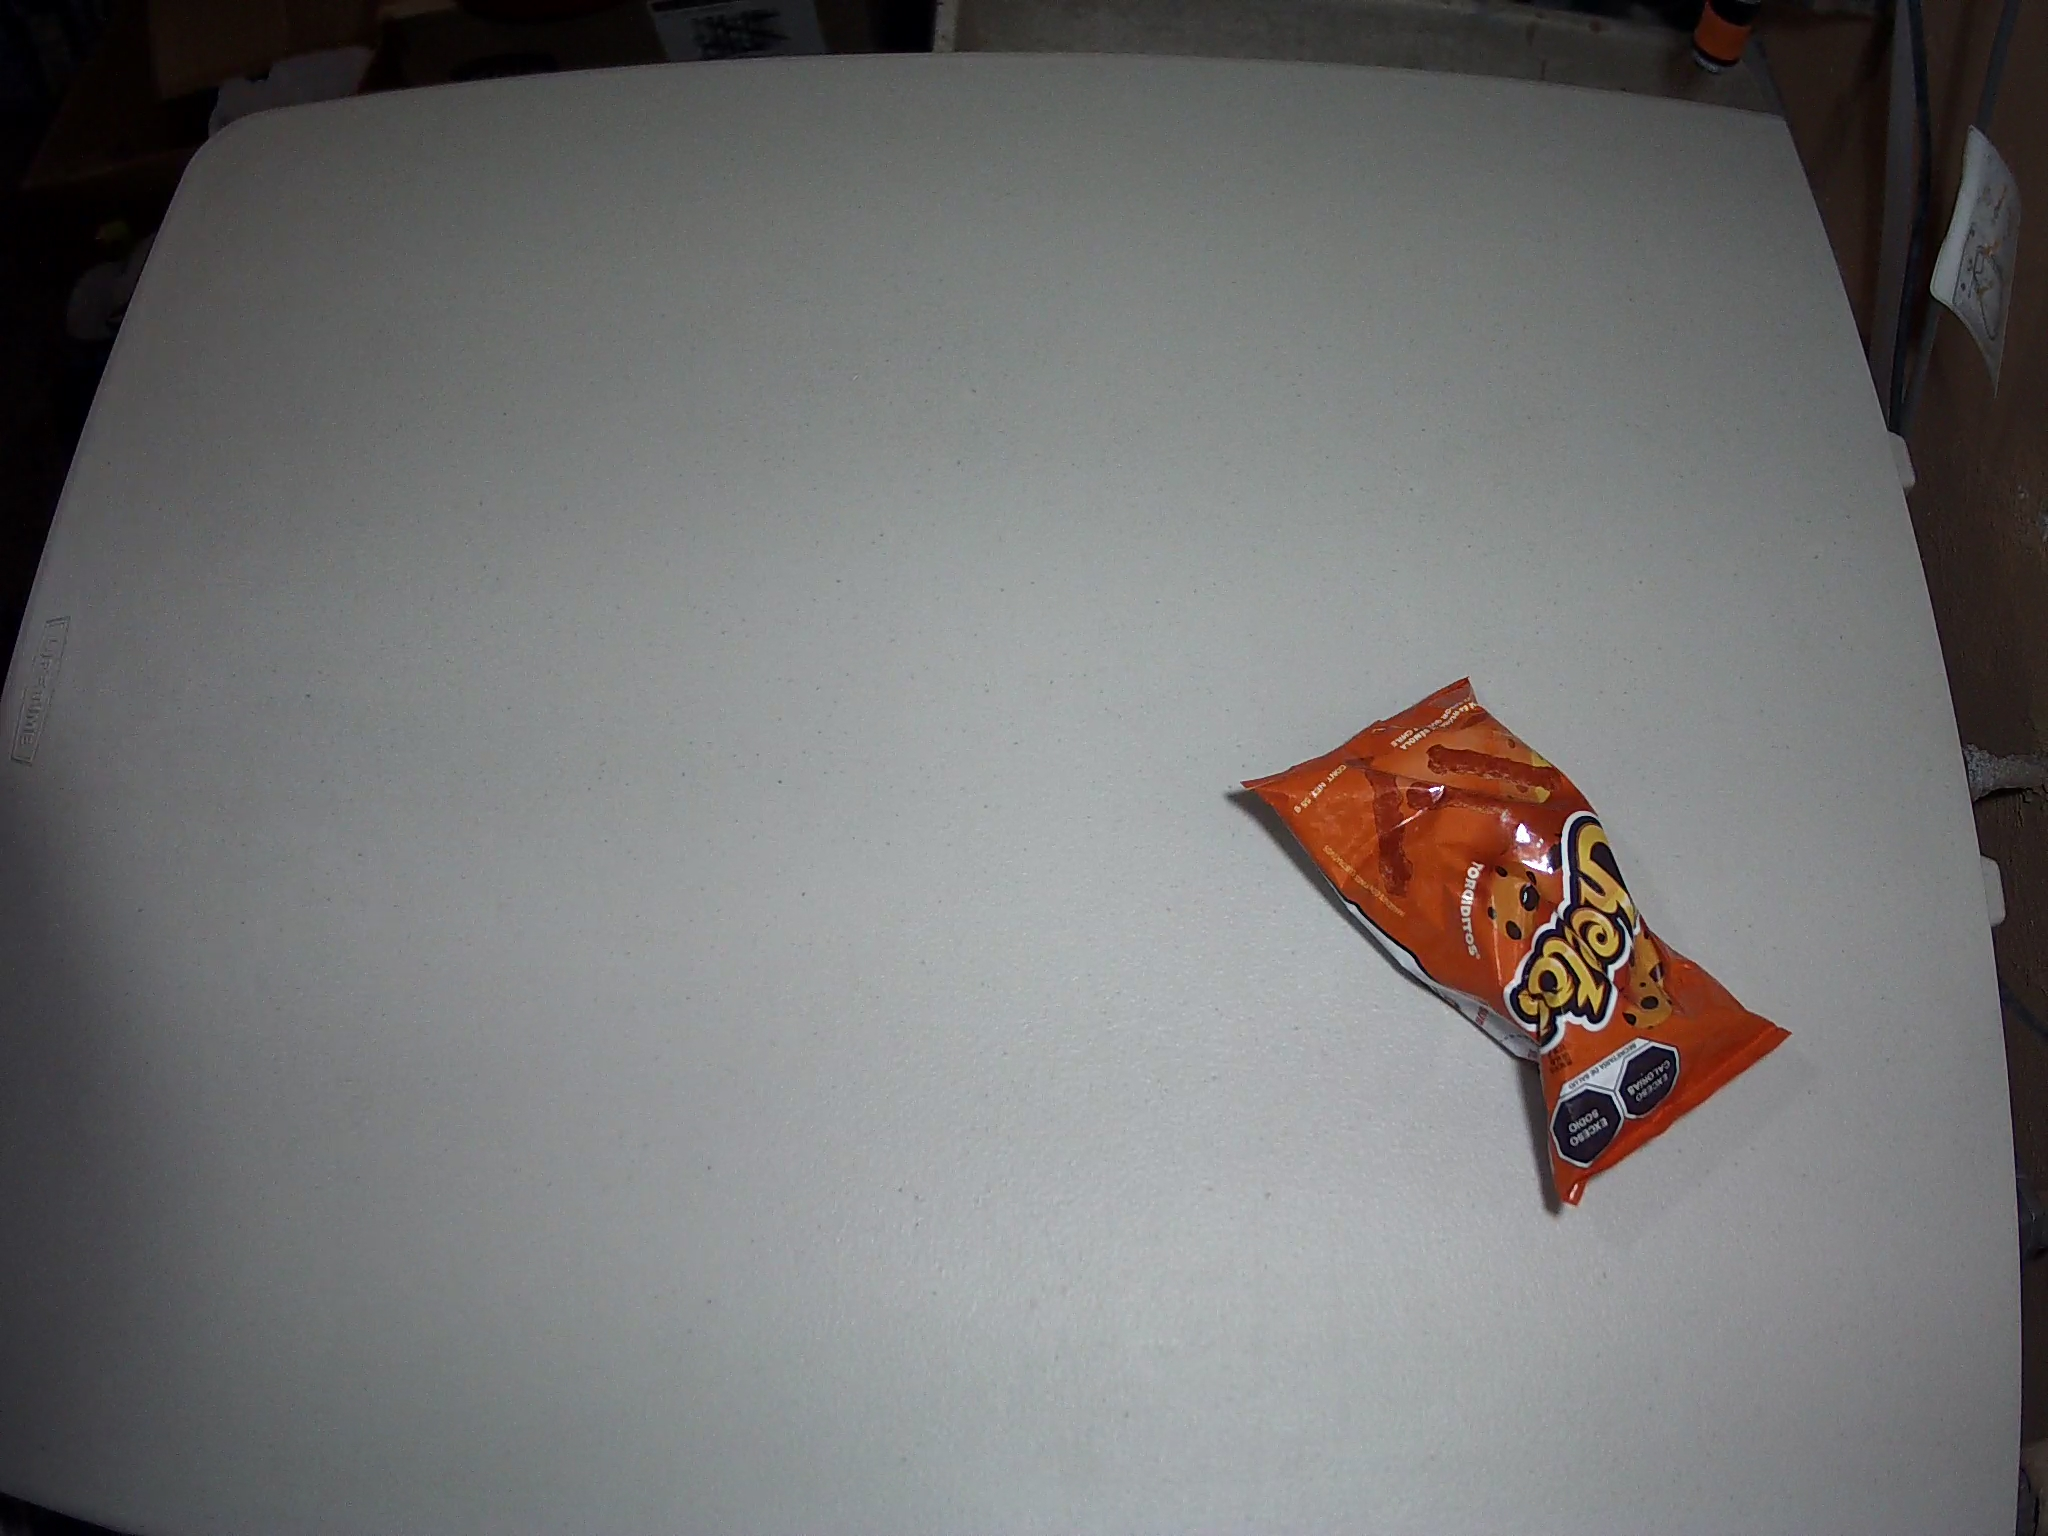CheetosTorciditos_55_F: (1242, 679, 1793, 1210)
